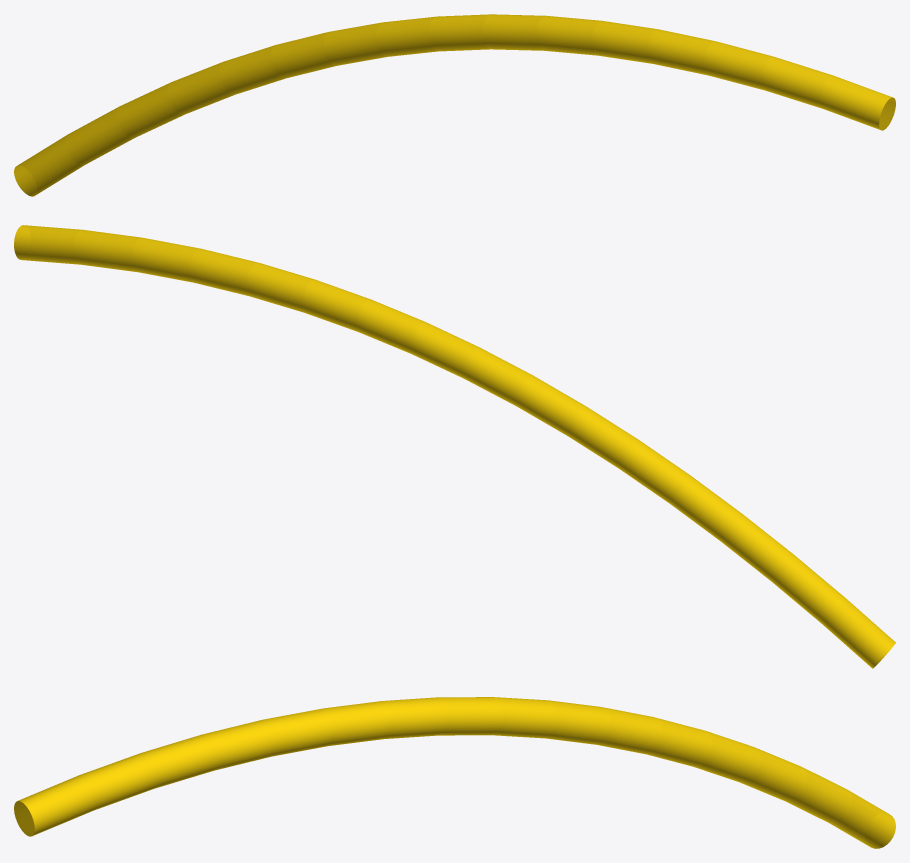
File: Event_421364160_track_31.fbx
3 views of the same model, one above another, from view 1: azimuth 30°, elevation 25°; view 2: azimuth 210°, elevation 25°; view 3: azimuth 270°, elevation 25° (orthographic). The views are drawn at different scales.
Visible parts, largest first — view 1: Model; view 2: Model; view 3: Model.
Part boxes in pixels (x1,y1,x2,y2): Model: (14,14,895,196); Model: (14,225,895,668); Model: (14,697,895,848).
Bounding box in the file's own units: 0.6511 × 0.3578 × 0.9221.
